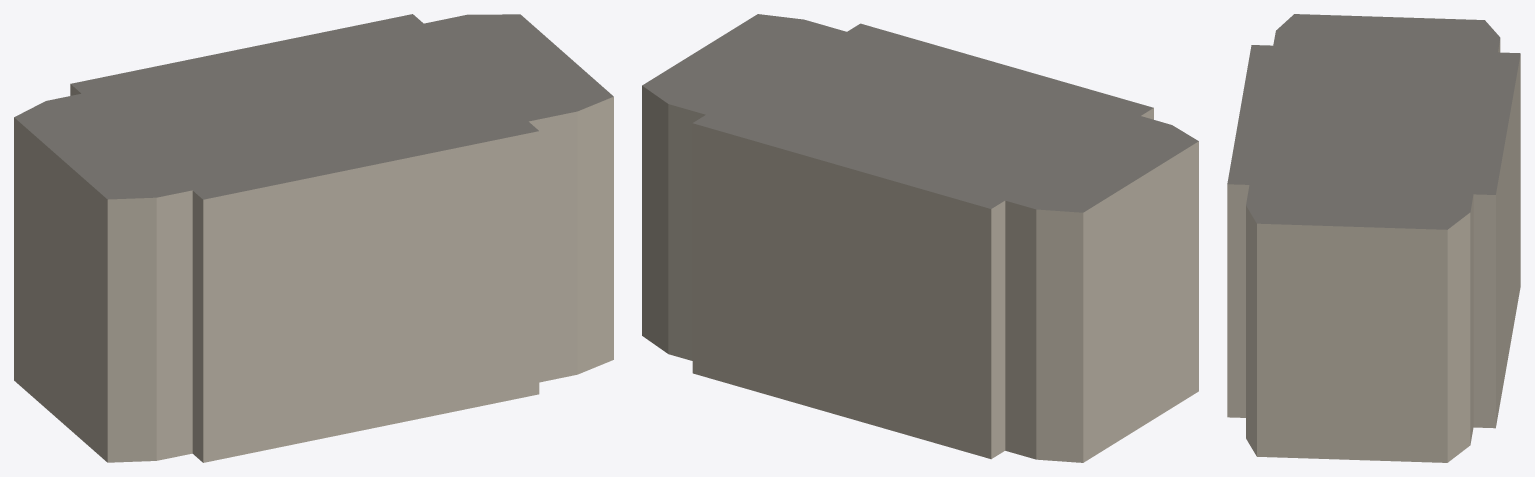
The picture shows the model from 3 angles, left to right: view 1: azimuth 30°, elevation 25°; view 2: azimuth 150°, elevation 25°; view 3: azimuth 270°, elevation 25°; orthographic projection. The views are drawn at different scales.
Visible parts, largest first — view 1: HP-w1435559502; view 2: HP-w1435559502; view 3: HP-w1435559502.
Boxes of the visible parts, <box> form: HP-w1435559502: <box>14,14,613,462</box>; HP-w1435559502: <box>642,14,1198,462</box>; HP-w1435559502: <box>1227,14,1520,462</box>.
Bounding box in the file's own units: 35.74 × 18 × 20.53.
